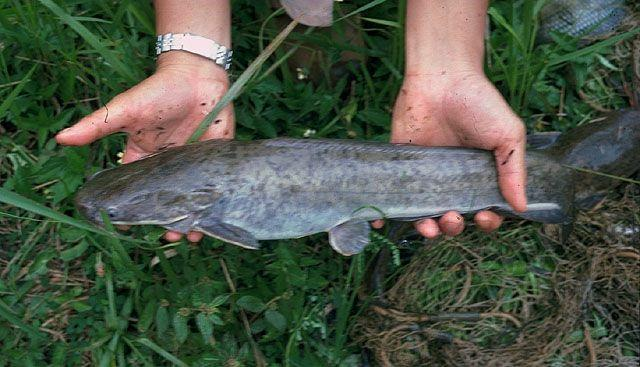Mudfish: (79, 137, 579, 255)
